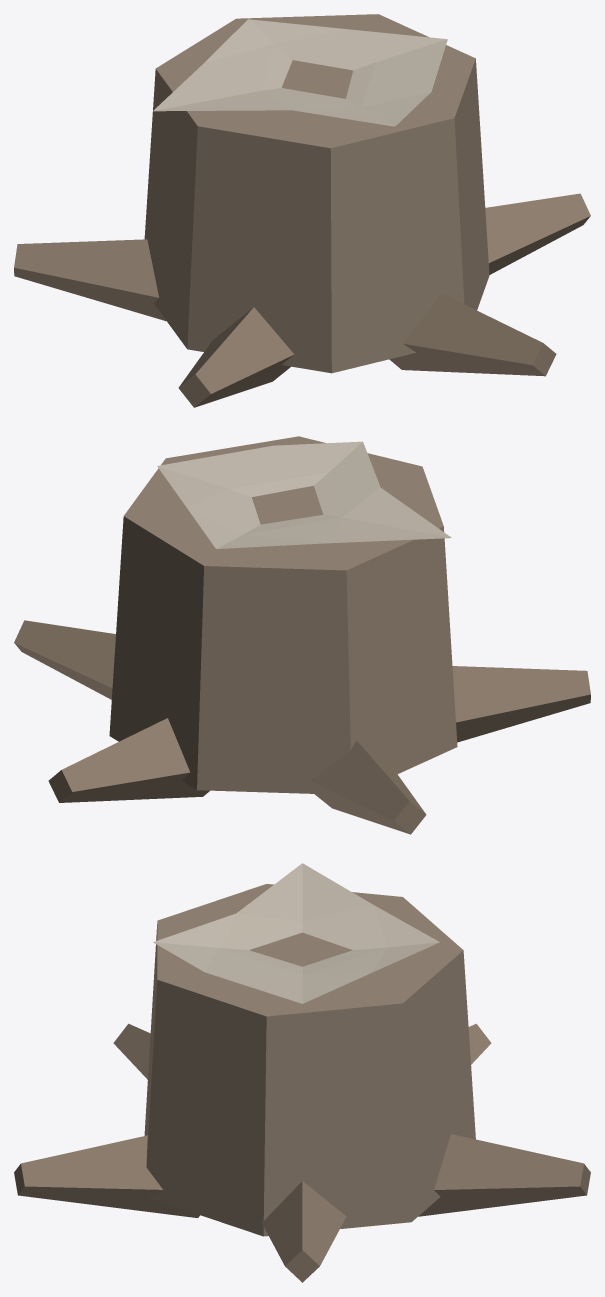
File: stump_v35.glb
3 views of the same model, one above another, from view 1: azimuth 30°, elevation 25°; view 2: azimuth 150°, elevation 25°; view 3: azimuth 270°, elevation 25° (orthographic). The views are drawn at different scales.
Parts seen in each view (by area): view 1: lod0; view 2: lod0; view 3: lod0.
Boxes of the visible parts, box(x1,y1,x2,y2) form: lod0: box(14, 14, 590, 407); lod0: box(14, 436, 590, 834); lod0: box(14, 863, 590, 1282).
Size of what is drawn, in the model's own units: 1.26 by 0.6894 by 1.32.
